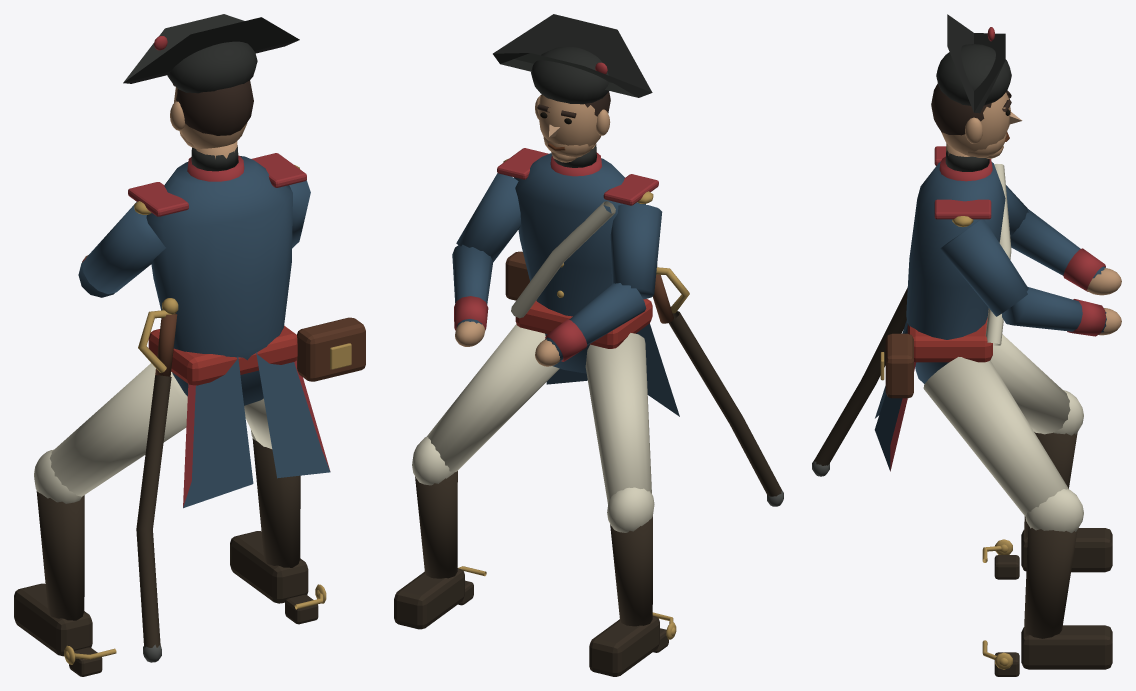
The model's file is jinete_criollo_1806.glb.
3 views of the same model, side by side, from view 1: azimuth 30°, elevation 25°; view 2: azimuth 150°, elevation 25°; view 3: azimuth 270°, elevation 25° (orthographic). The views are drawn at different scales.
Visible parts, largest first — view 1: jinete_criollo_1806; view 2: jinete_criollo_1806; view 3: jinete_criollo_1806.
Boxes of the visible parts, left/top/right/bottom form: jinete_criollo_1806: left=14, top=14, right=365, bottom=676; jinete_criollo_1806: left=394, top=14, right=783, bottom=676; jinete_criollo_1806: left=812, top=14, right=1121, bottom=676.
Size of the model in its own units: 0.9481 by 2.08 by 0.9825.
